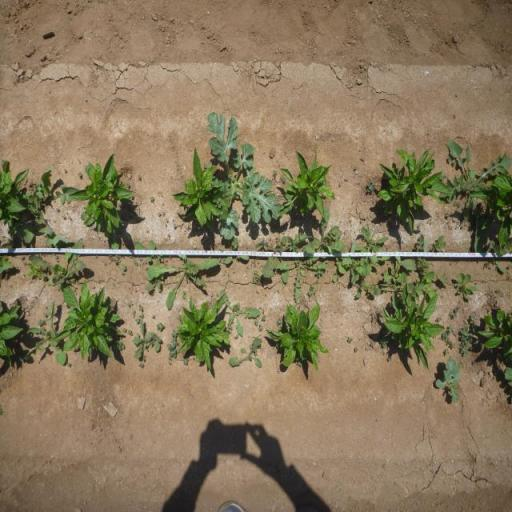plant: (374, 146, 451, 236), (55, 281, 123, 365), (264, 300, 332, 371), (75, 154, 134, 231), (387, 293, 444, 372), (175, 295, 229, 371), (280, 149, 336, 222), (173, 146, 221, 229), (471, 173, 512, 243), (480, 306, 512, 364), (0, 302, 25, 366)
weed: (204, 109, 283, 239), (442, 139, 512, 252), (1, 165, 80, 249), (147, 249, 221, 313), (393, 237, 451, 305), (276, 239, 328, 303), (23, 299, 68, 367), (24, 241, 88, 288), (254, 232, 314, 282), (305, 207, 348, 266), (219, 289, 262, 339), (333, 241, 372, 292), (356, 225, 394, 269), (434, 357, 462, 404), (229, 336, 263, 370), (380, 252, 409, 287), (352, 270, 382, 300), (488, 238, 512, 273), (134, 239, 165, 265), (454, 272, 480, 302), (226, 238, 252, 268), (134, 321, 154, 360), (26, 262, 47, 280), (104, 230, 121, 250), (432, 233, 447, 253), (459, 326, 474, 346), (146, 280, 165, 294), (113, 255, 127, 272), (112, 338, 126, 354), (442, 325, 454, 341), (370, 309, 382, 323), (152, 336, 162, 352), (168, 344, 179, 358), (380, 334, 390, 349), (332, 269, 341, 284), (308, 284, 316, 298), (252, 270, 260, 284), (444, 340, 457, 348), (460, 346, 468, 358), (483, 261, 493, 270), (156, 322, 166, 331), (315, 270, 324, 279), (367, 182, 375, 192), (453, 306, 460, 317), (443, 348, 450, 358), (126, 300, 134, 308), (470, 314, 476, 324), (346, 336, 353, 344), (138, 362, 146, 369), (276, 318, 282, 326), (173, 338, 179, 346), (138, 304, 144, 312), (38, 319, 46, 325), (296, 360, 302, 367), (172, 329, 179, 335), (258, 324, 263, 332), (254, 318, 259, 326), (184, 357, 189, 365), (182, 290, 186, 300), (261, 315, 266, 322), (281, 176, 286, 183), (128, 329, 133, 336), (140, 313, 145, 320), (77, 171, 82, 178), (134, 319, 140, 324), (43, 312, 48, 318), (150, 196, 155, 202), (134, 259, 138, 265), (138, 174, 142, 180), (355, 347, 359, 352), (124, 328, 128, 333), (274, 170, 276, 178), (133, 310, 135, 318), (370, 342, 372, 346)
